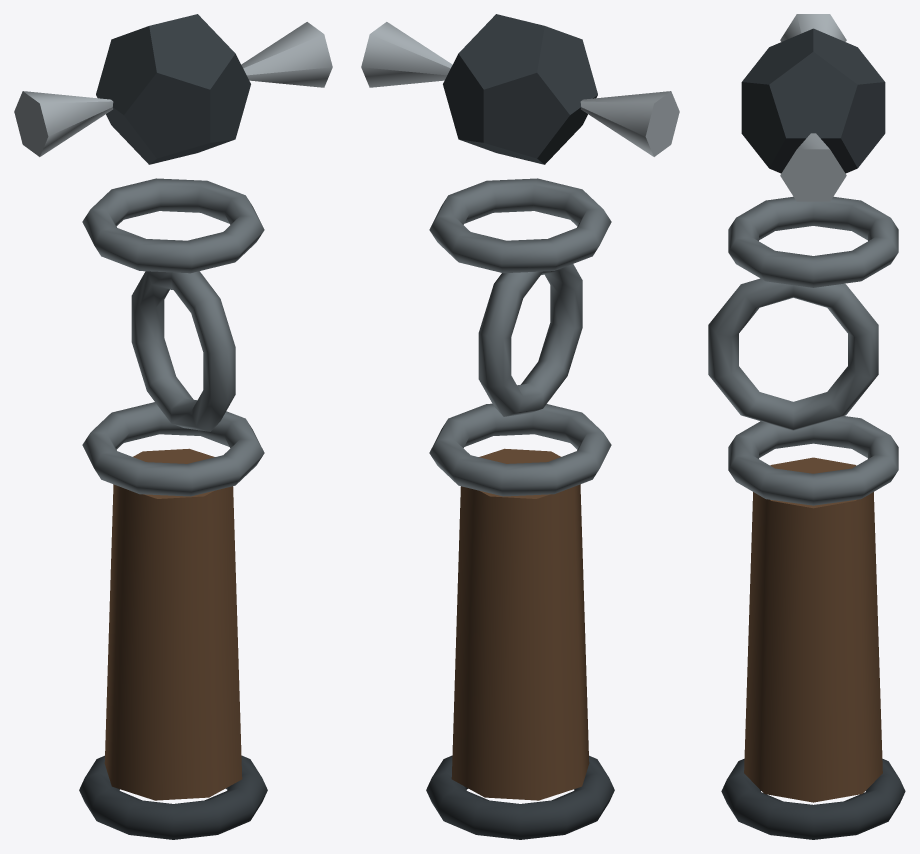
Rendered from flail.glb.
3 renders of one model, left to right at view 1: azimuth 30°, elevation 25°; view 2: azimuth 150°, elevation 25°; view 3: azimuth 270°, elevation 25°, orthographic. The views are drawn at different scales.
Visible parts, largest first — view 1: flail-grip, flail-chain-link (×3), flail-striker, flail-striker-rivet (×2), flail-pommel; view 2: flail-grip, flail-chain-link (×3), flail-striker, flail-striker-rivet (×2), flail-pommel; view 3: flail-grip, flail-chain-link (×3), flail-striker, flail-pommel, flail-striker-rivet (×2).
Boxes of the visible parts, box(x1,y1,x2,y2) form: flail-grip: box(104, 448, 242, 800); flail-chain-link (×3): box(82, 178, 264, 496); flail-striker: box(96, 14, 250, 164); flail-striker-rivet (×2): box(14, 22, 332, 156); flail-pommel: box(79, 755, 267, 839); flail-grip: box(451, 448, 589, 800); flail-chain-link (×3): box(429, 178, 611, 496); flail-striker: box(443, 14, 597, 164); flail-striker-rivet (×2): box(361, 22, 679, 156); flail-pommel: box(426, 755, 614, 839); flail-grip: box(744, 457, 882, 802); flail-chain-link (×3): box(708, 196, 898, 505); flail-striker: box(741, 28, 885, 173); flail-pommel: box(721, 758, 905, 839); flail-striker-rivet (×2): box(780, 14, 846, 201).
Bounding box in the file's own units: 0.24 × 0.6351 × 0.1477.
